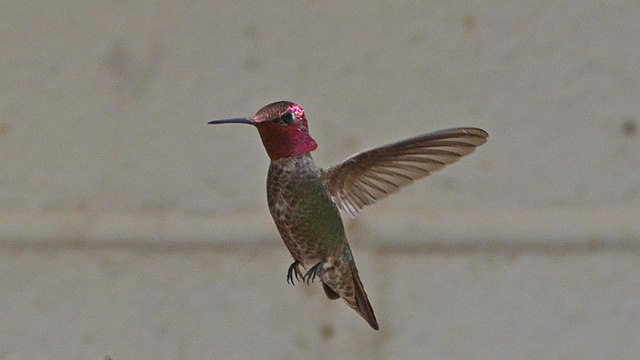calypte anna: (204, 101, 487, 333)
